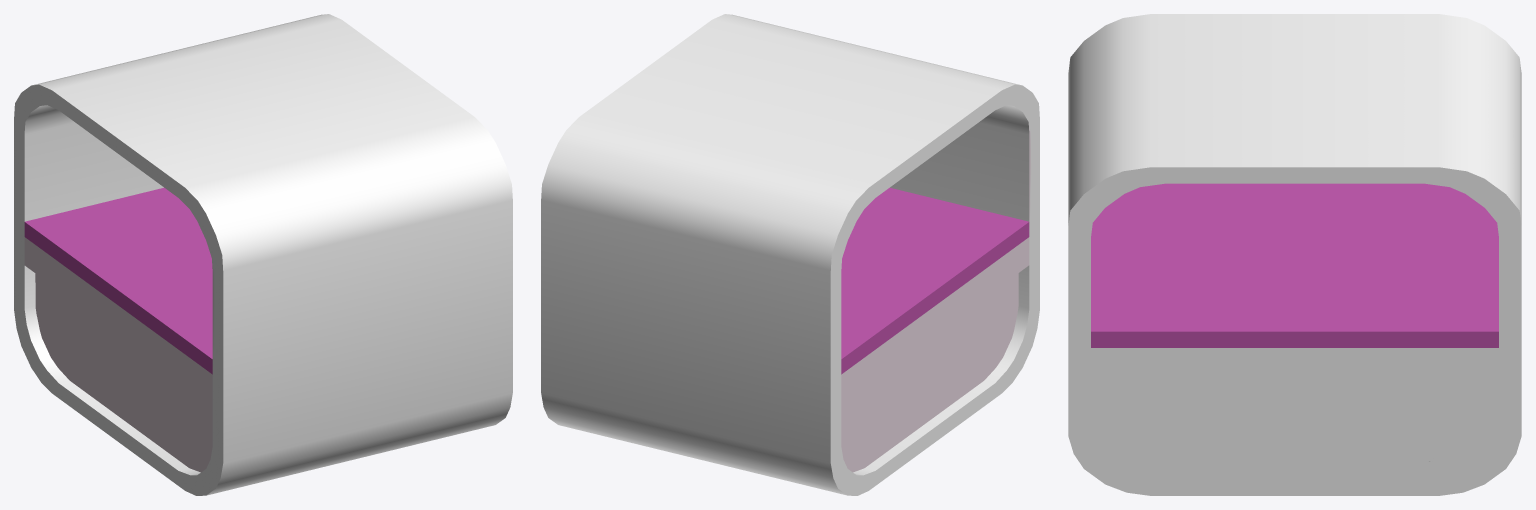
Rendered from Bed_CoffeeTable.fbx.
The picture shows the model from 3 angles, left to right: view 1: azimuth 30°, elevation 25°; view 2: azimuth 150°, elevation 25°; view 3: azimuth 270°, elevation 25°; orthographic projection. The views are drawn at different scales.
Parts seen in each view (by area): view 1: Bed_CoffeeTable, Bed_CoffeeTable_Shelf; view 2: Bed_CoffeeTable, Bed_CoffeeTable_Shelf; view 3: Bed_CoffeeTable.
Boxes of the visible parts, x1,y1,x2,y2 form: Bed_CoffeeTable: (14, 14, 512, 495); Bed_CoffeeTable_Shelf: (24, 237, 212, 472); Bed_CoffeeTable: (541, 14, 1039, 495); Bed_CoffeeTable_Shelf: (841, 237, 1029, 472); Bed_CoffeeTable: (1068, 14, 1521, 495).
Bounding box in the file's own units: 40 × 40 × 50.
1 material, 1 textured.
